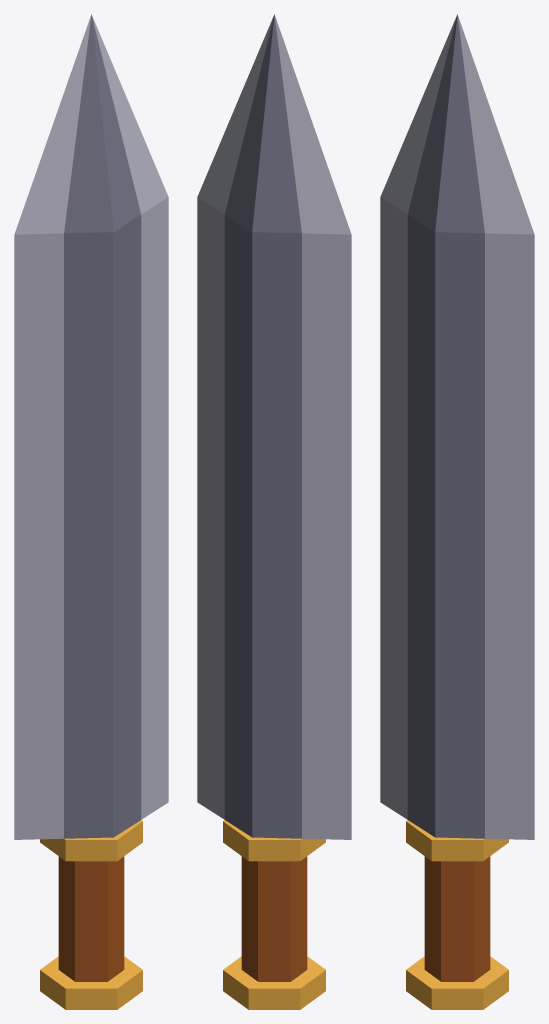
Rendered from Sword.fbx.
3 views of the same model, side by side, from view 1: azimuth 30°, elevation 25°; view 2: azimuth 150°, elevation 25°; view 3: azimuth 330°, elevation 25° (orthographic).
Visible parts, largest first — view 1: mergedBlocks; view 2: mergedBlocks; view 3: mergedBlocks.
Part boxes in pixels (x1=…): mergedBlocks: x1=14, y1=14, x2=168, y2=1009; mergedBlocks: x1=197, y1=14, x2=351, y2=1009; mergedBlocks: x1=380, y1=14, x2=534, y2=1009.
Size of the model in its own units: 3.8 by 23 by 2.2.
